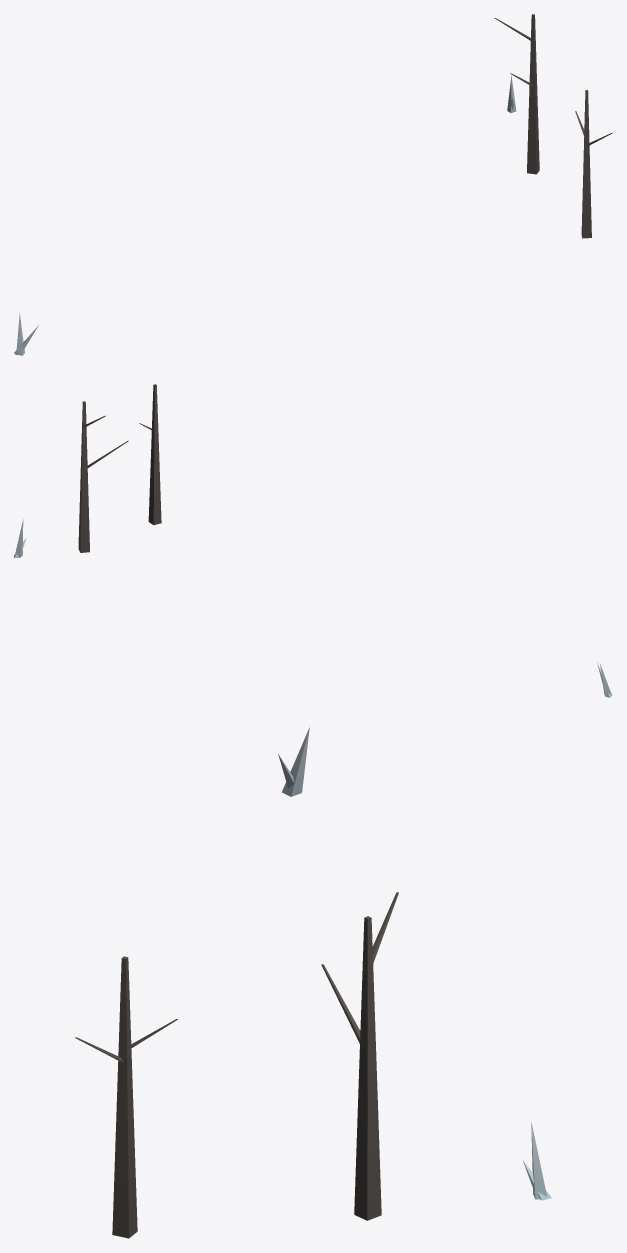
Rendered from frost_land_scatter_c23_10_lod1.glb.
The picture shows the model from 3 angles, top to bottom: view 1: azimuth 30°, elevation 25°; view 2: azimuth 150°, elevation 25°; view 3: azimuth 270°, elevation 25°; orthographic projection. The views are drawn at different scales.
Visible parts, largest first — view 1: frost_land_scatter_c23_10_lod1; view 2: frost_land_scatter_c23_10_lod1; view 3: frost_land_scatter_c23_10_lod1.
Boxes of the visible parts, x1,y1,x2,y2 form: frost_land_scatter_c23_10_lod1: [14, 14, 612, 355]; frost_land_scatter_c23_10_lod1: [14, 384, 612, 697]; frost_land_scatter_c23_10_lod1: [75, 727, 551, 1238].
Size of the model in its own units: 31.65 by 10.38 by 12.2.
